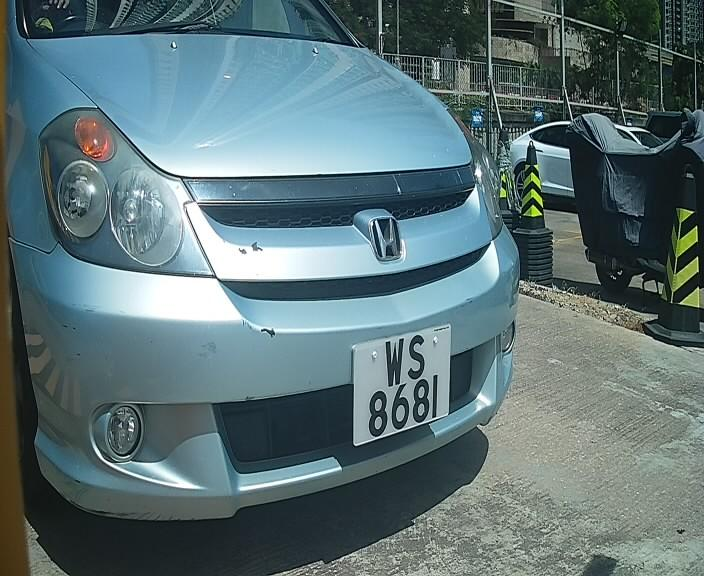License Plate: (346, 319, 459, 451)
